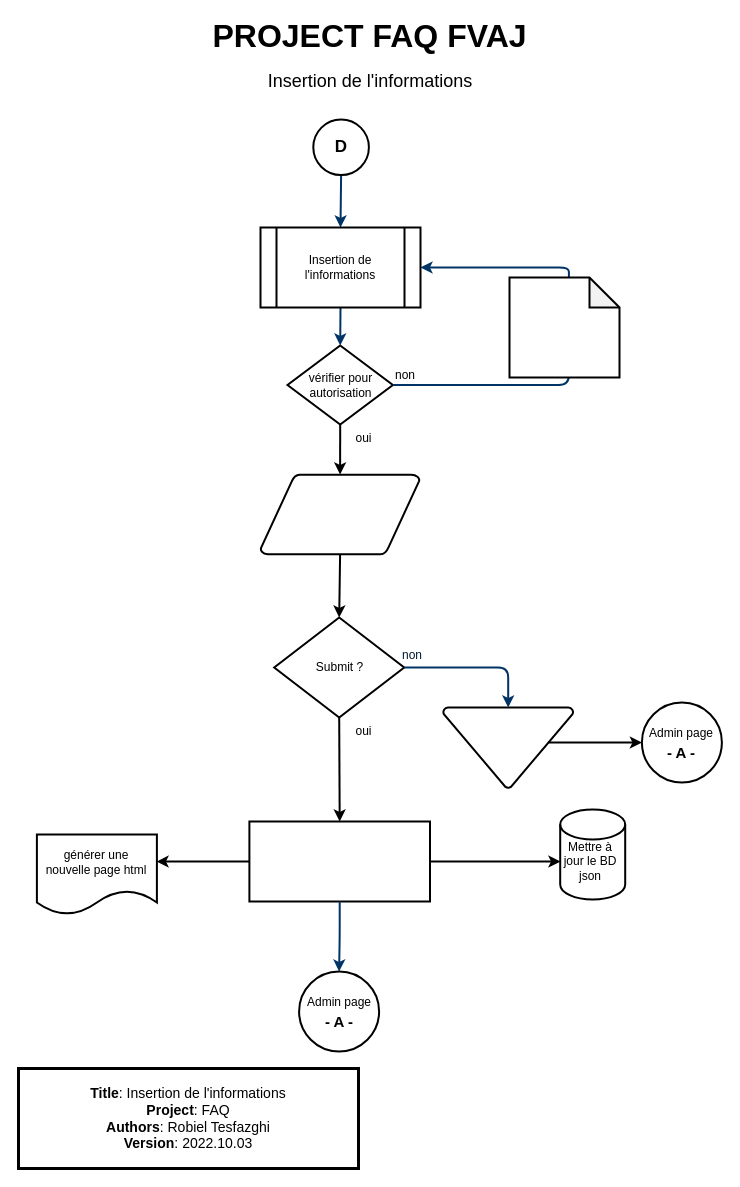
Some shapes in this 740 by 1187 pixel diagram are drawn without their labels. The box of each missing label's shape, as (x1, y1, x2, y2) in pixels:
formulaire pour l'insertion d'informations: (259, 473, 420, 555)
sauvegarder le changement: (248, 820, 430, 902)
Terminer la requête: (442, 706, 574, 788)
Uniquement l'administrateur et webmaster peut Insérer de nouvelles informations: (508, 276, 620, 378)
